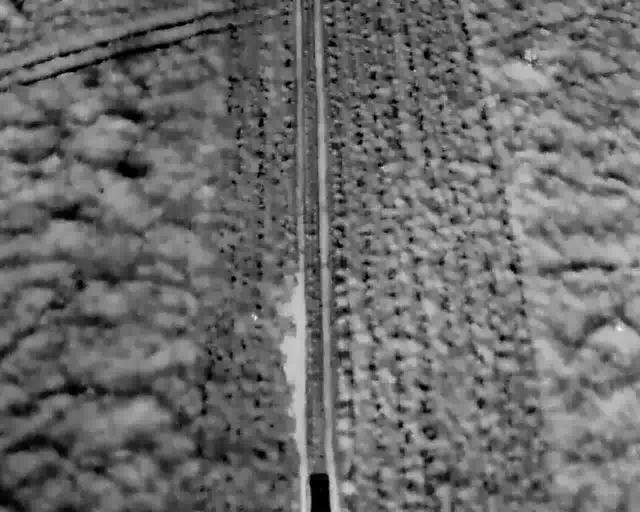car: (303, 467, 335, 511)
